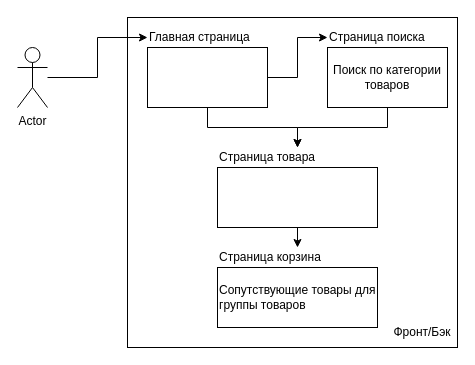
Some shapes in this 475 by 365 pixel diagram are drawn without their labels. Each missing label, with the centre of its shape:
"Показ сопутствующих товаров/(если нет) популярные товары категории" goes at pixel 297 197.
"Популярные товары" goes at pixel 207 77.
